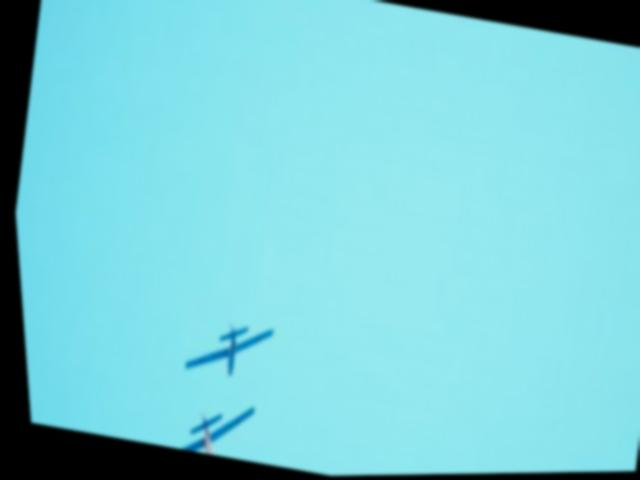uav: (147, 384, 263, 464), (173, 311, 269, 388)
